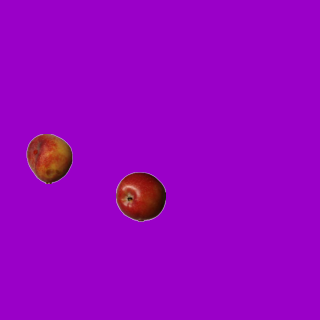Apple Braeburn: (115, 171, 165, 221)
Peach: (24, 133, 74, 183)
